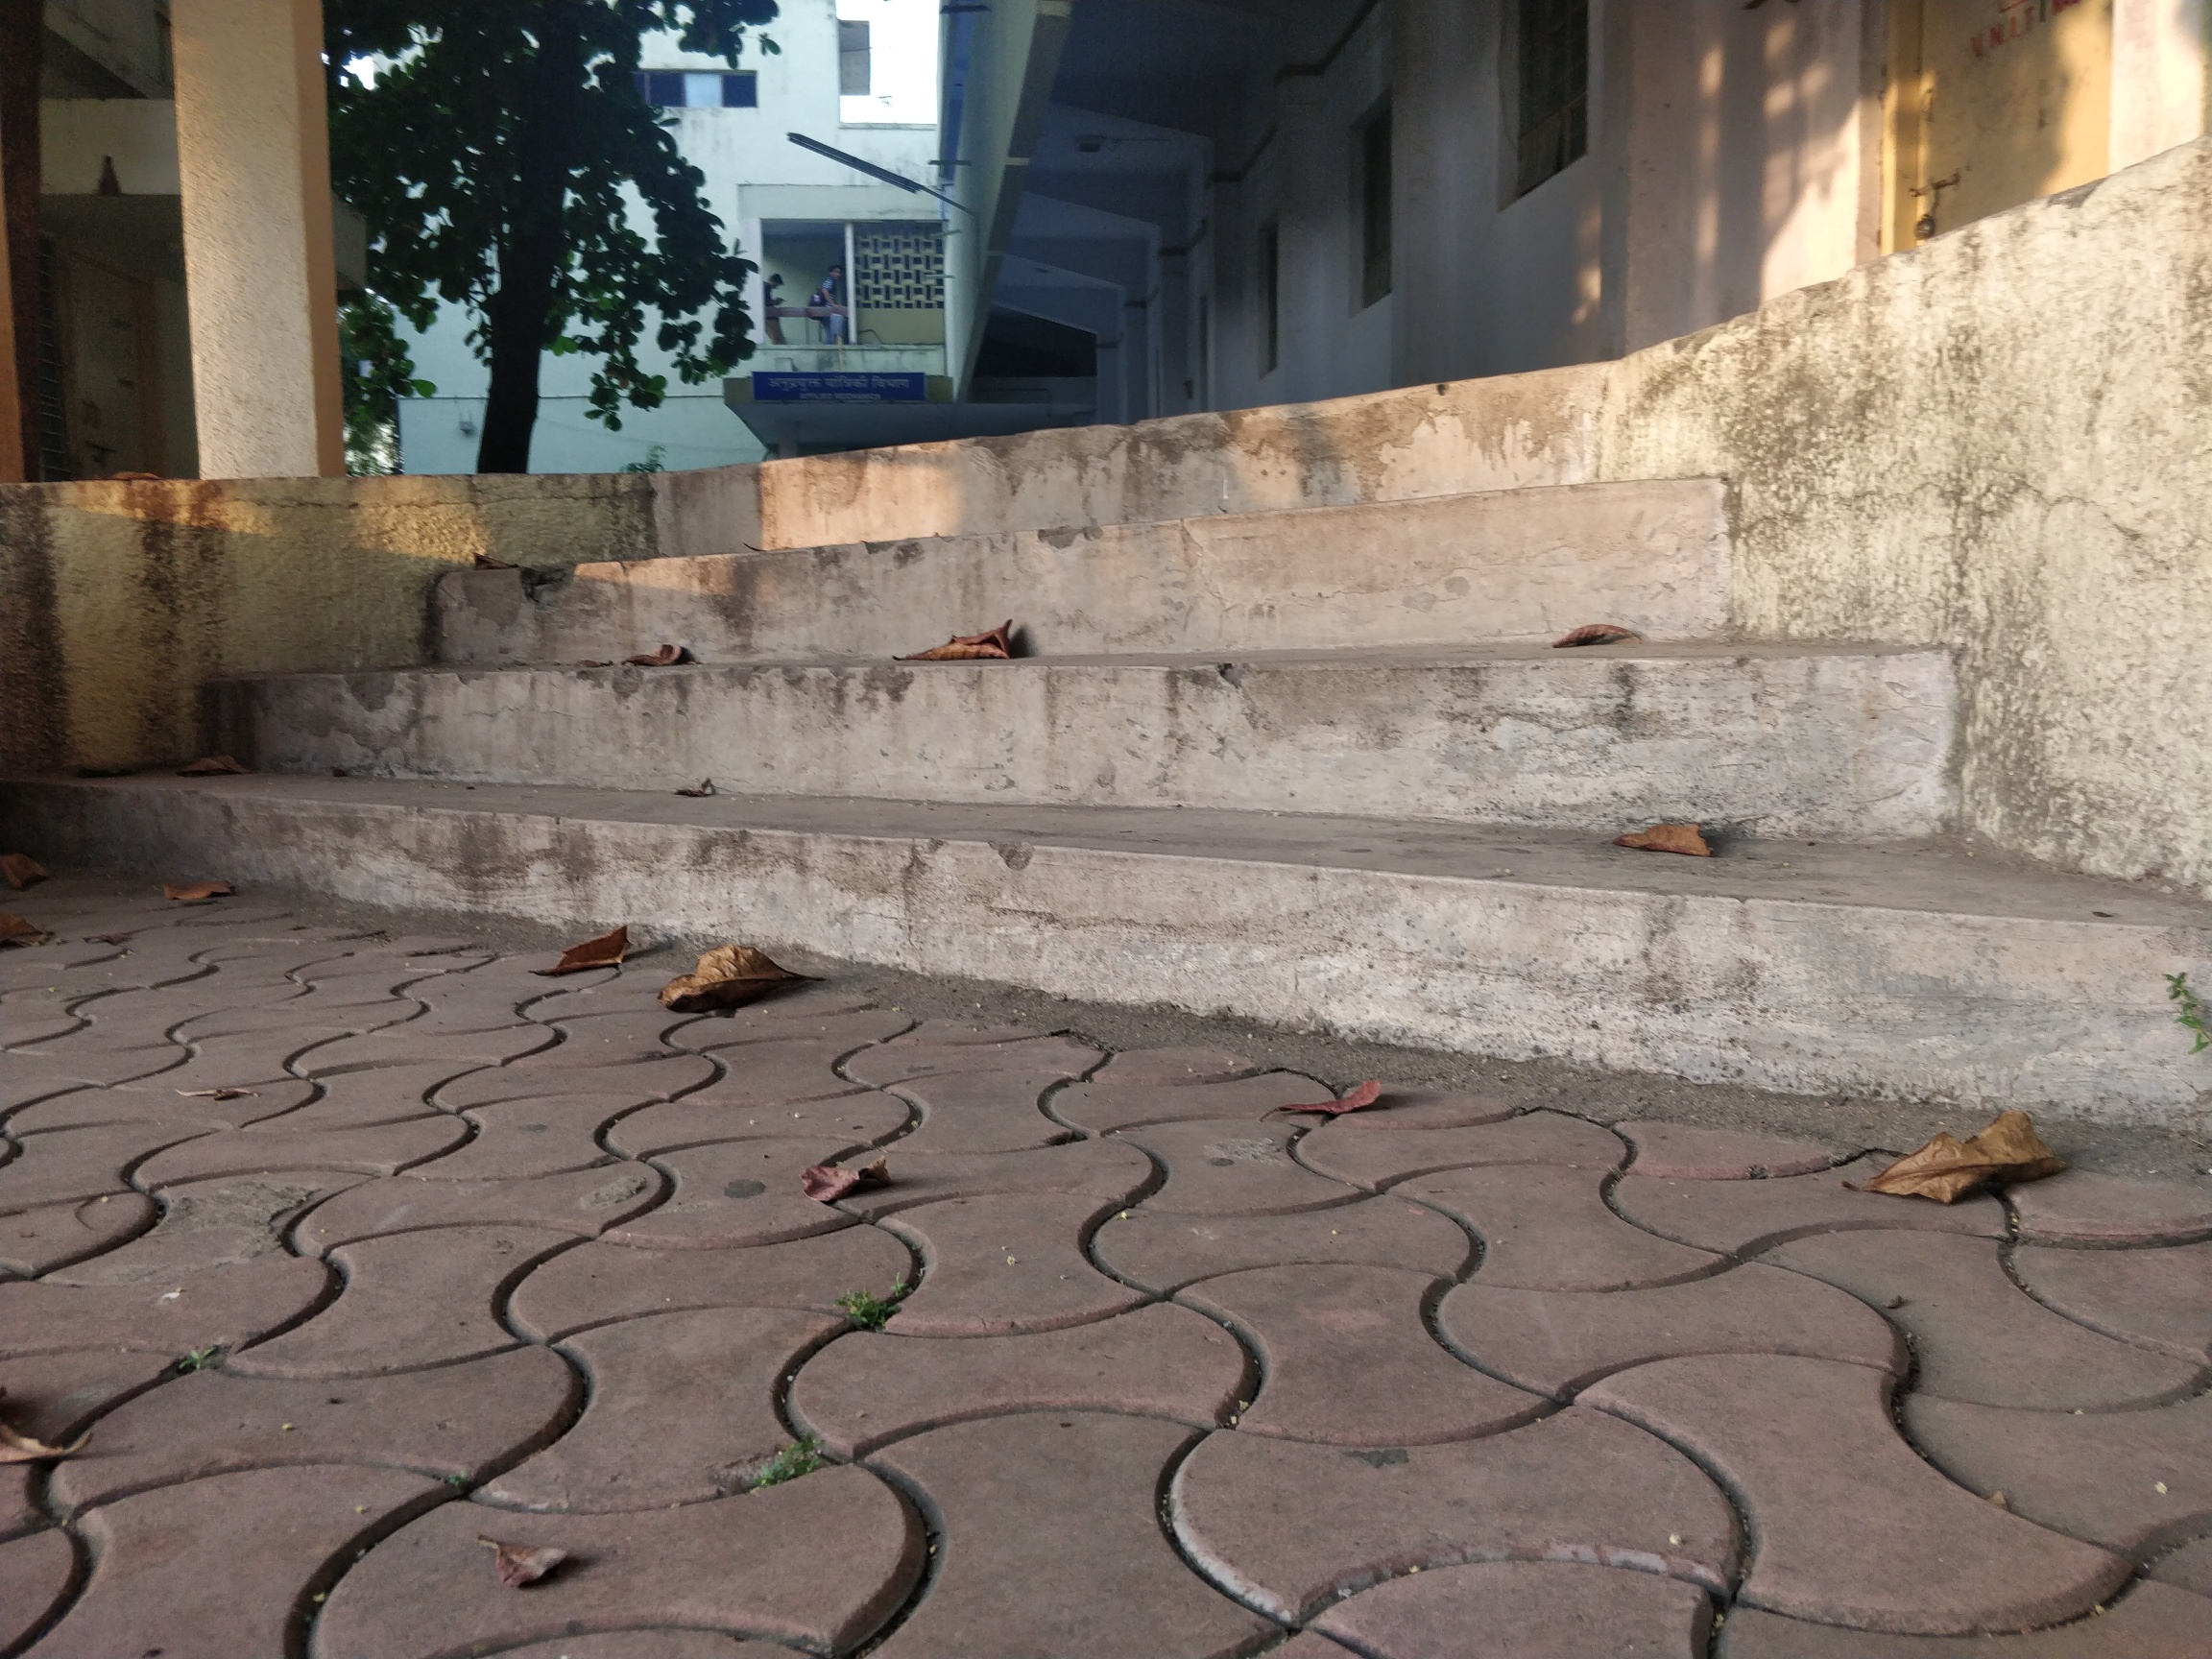stairs_up: (45, 394, 2203, 1190)
